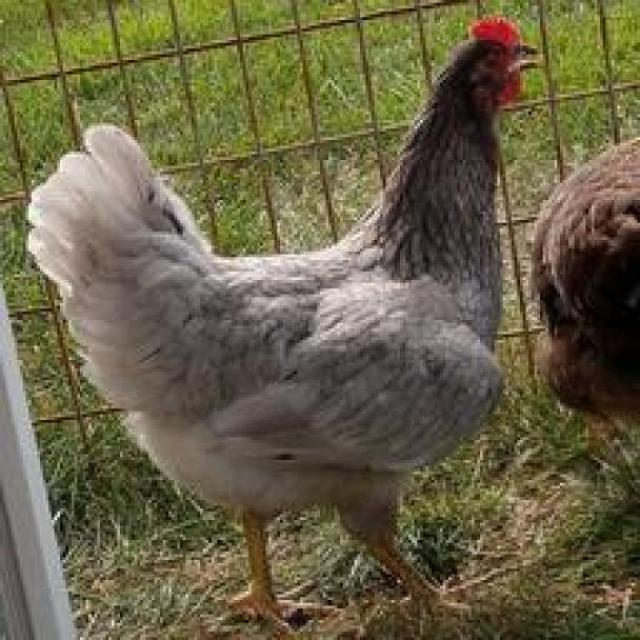Chicken: (34, 4, 532, 628)
